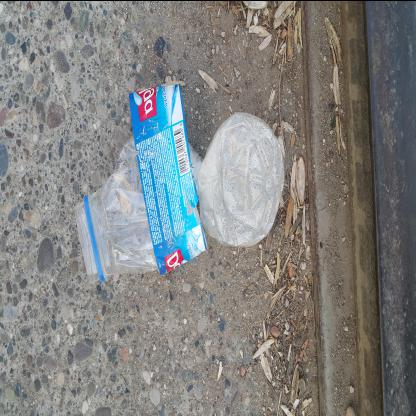plastik: (130, 74, 334, 286)
